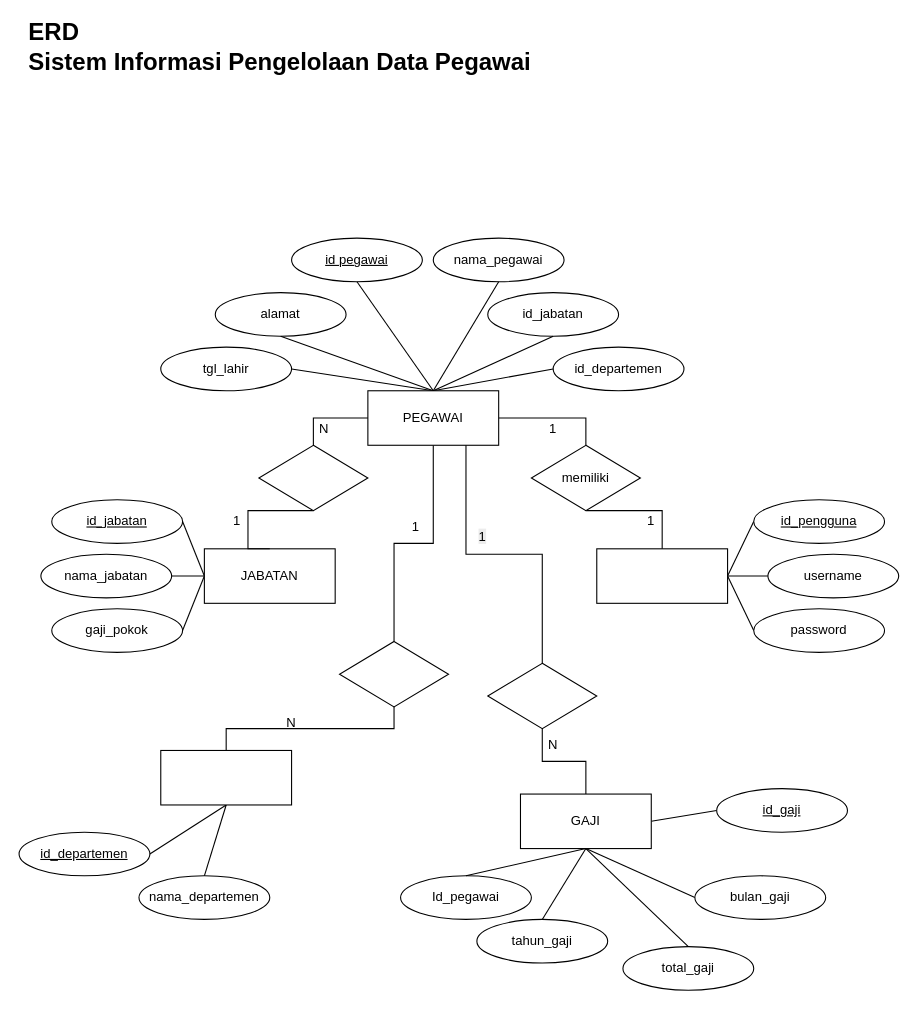
Some shapes in this 918 by 1009 pixel diagram are drawn without their labels. The centre of each missing label's shape, as x and y in pixels:
"DEPARTEMEN" belongs at (x=226, y=777).
"ditempatkan" belongs at (x=393, y=673).
"menduduki" belongs at (x=313, y=477).
"menerima" belongs at (x=542, y=695).
"PENGGUNA" belongs at (x=662, y=575).
